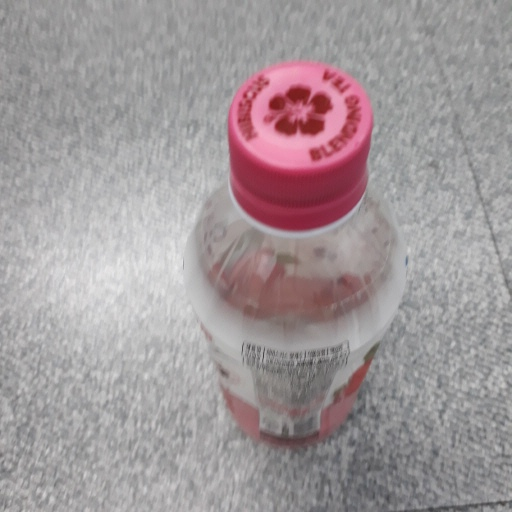Plastic_0: (184, 62, 409, 452)
